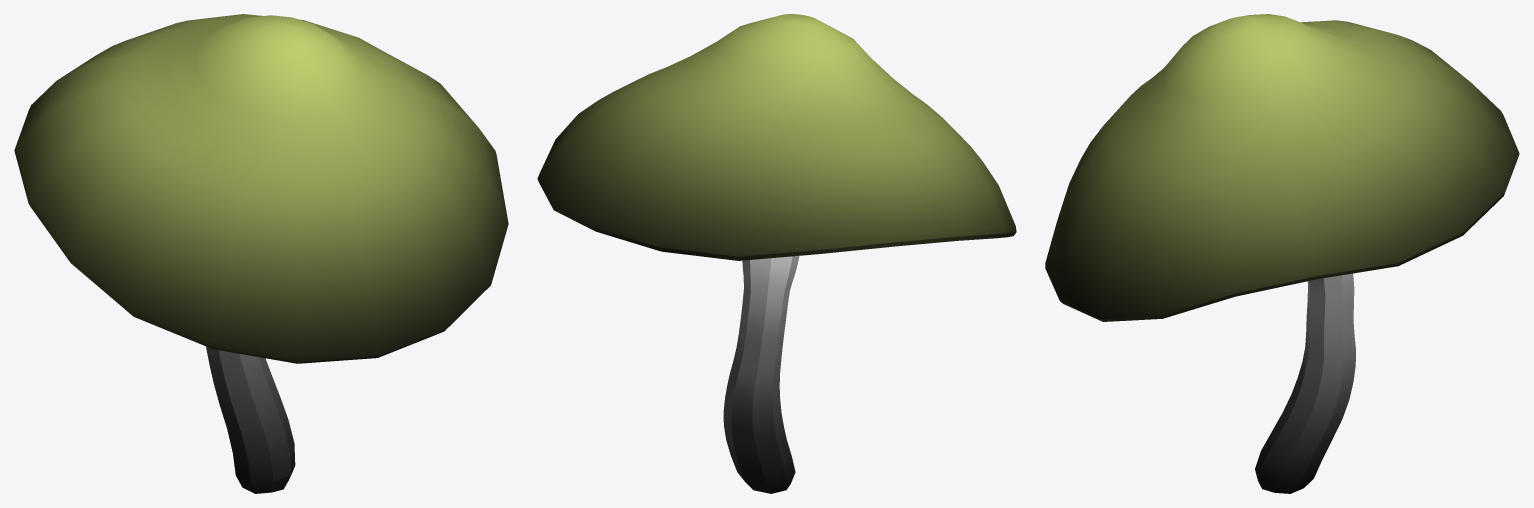
File: mushroom8.fbx
3 renders of one model, left to right at view 1: azimuth 30°, elevation 25°; view 2: azimuth 150°, elevation 25°; view 3: azimuth 270°, elevation 25°, orthographic. The views are drawn at different scales.
Parts seen in each view (by area): view 1: mushroom6; view 2: mushroom6; view 3: mushroom6.
Part boxes in pixels (x1,y1,x2,y2): mushroom6: (14, 14, 508, 493); mushroom6: (537, 14, 1016, 493); mushroom6: (1045, 14, 1519, 493).
Size of the model in its own units: 59.28 by 63.17 by 58.24.
